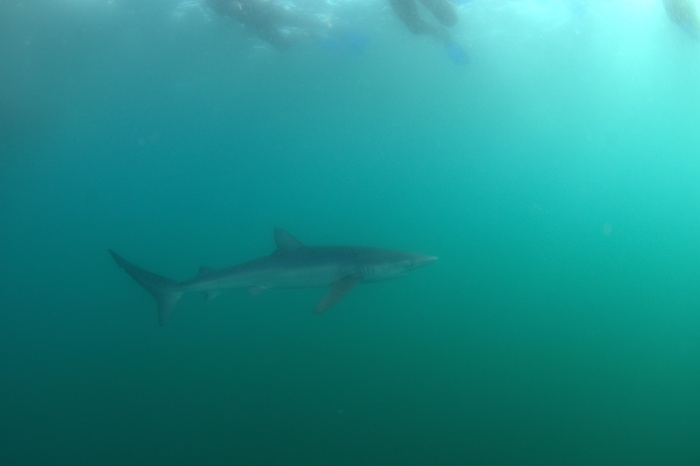Azul: (95, 214, 458, 337)
